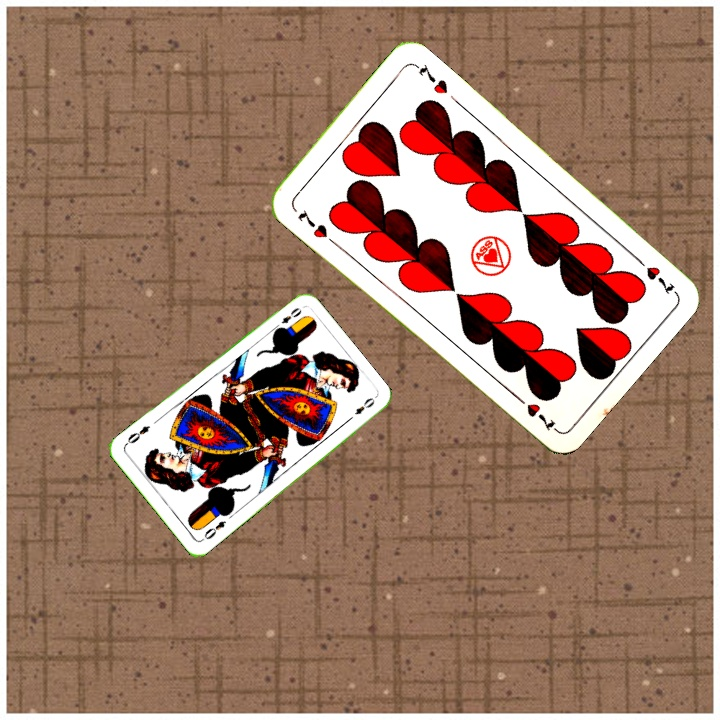EO: (270, 303, 304, 333), (198, 517, 229, 543)
H7: (630, 251, 678, 297), (293, 205, 330, 241)
